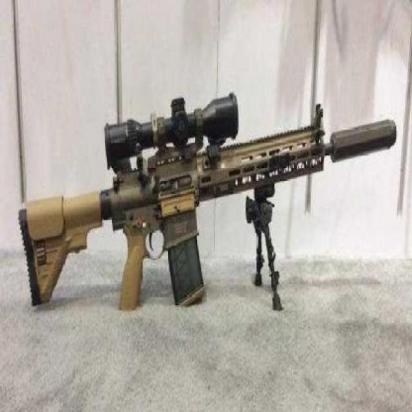Gun: (21, 93, 397, 312)
